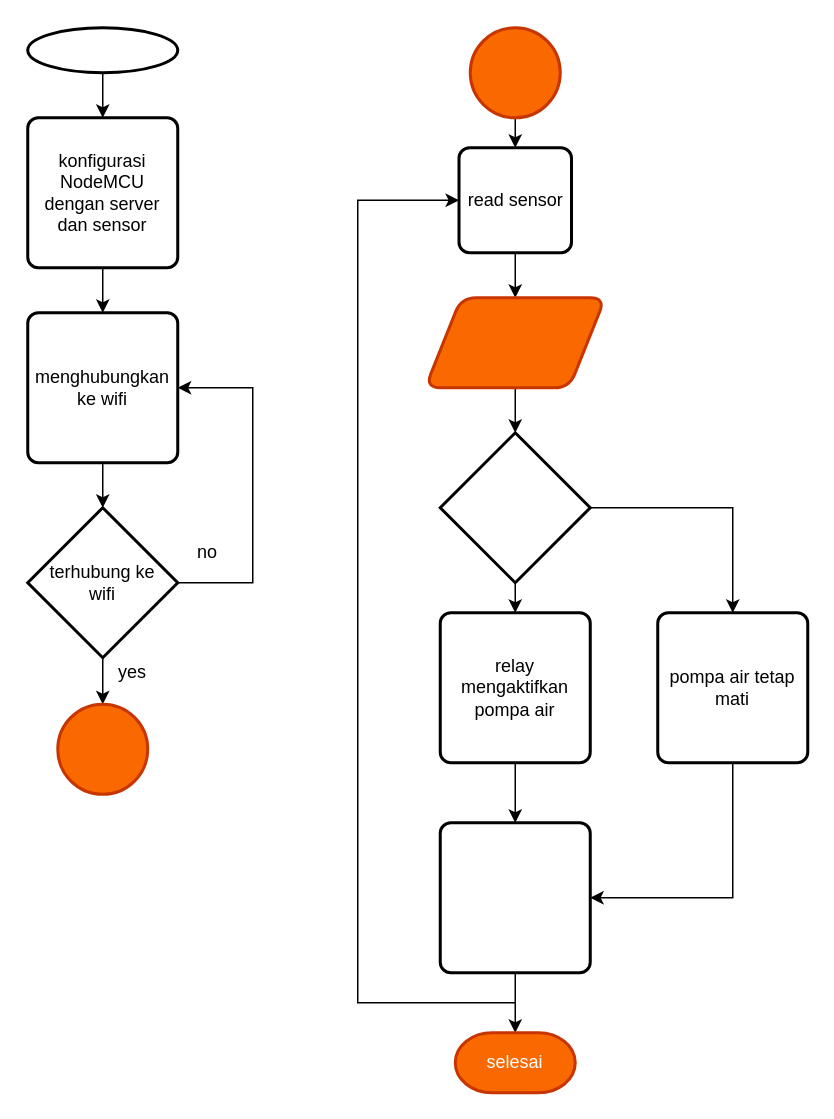
The diagram is 834 pixels wide and 1119 high, and some of its shapes have lost their labels. Here are the shapes that lost their labels. From the top down, the centre of each, then its label:
[102,50]: start
[514,342]: data kelembaban
[514,507]: data < threshold
[514,897]: mengirim data ke server
